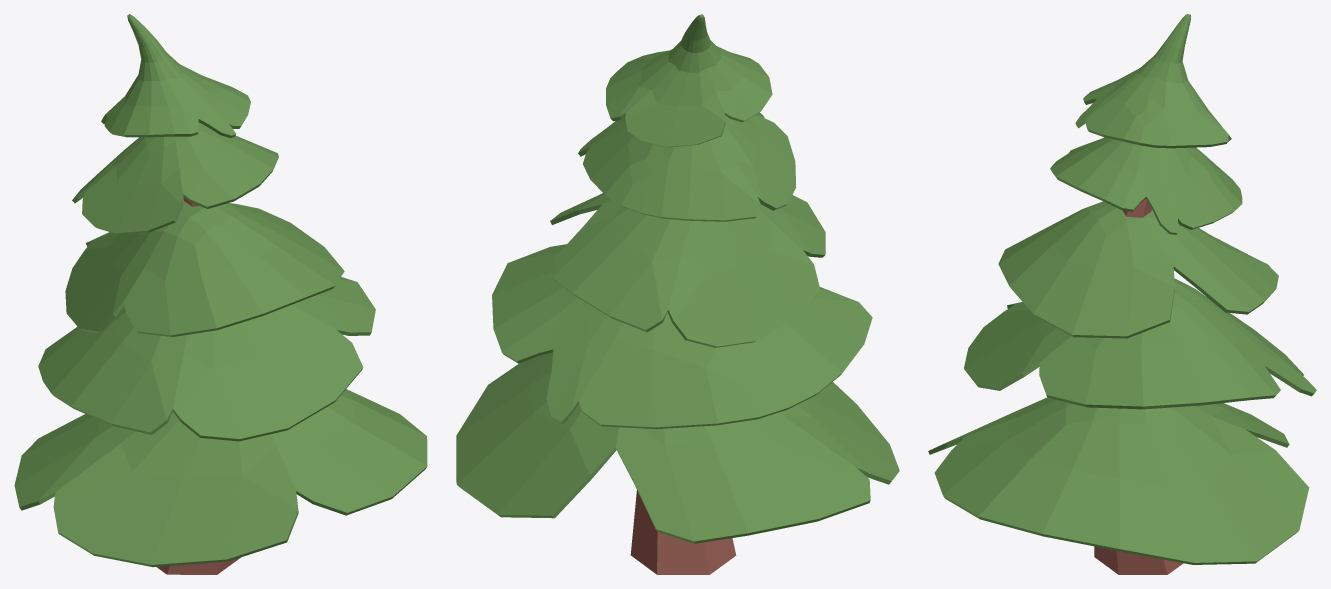
File: PineTree_1.glb
3 renders of one model, left to right at view 1: azimuth 30°, elevation 25°; view 2: azimuth 150°, elevation 25°; view 3: azimuth 270°, elevation 25°, orthographic. The views are drawn at different scales.
Parts seen in each view (by area): view 1: PineTree_1; view 2: PineTree_1; view 3: PineTree_1.
Part boxes in pixels (x1=…): PineTree_1: x1=14, y1=14, x2=427, y2=574; PineTree_1: x1=456, y1=14, x2=899, y2=574; PineTree_1: x1=928, y1=14, x2=1316, y2=574.
Size of the model in its own units: 196 by 270 by 182.
